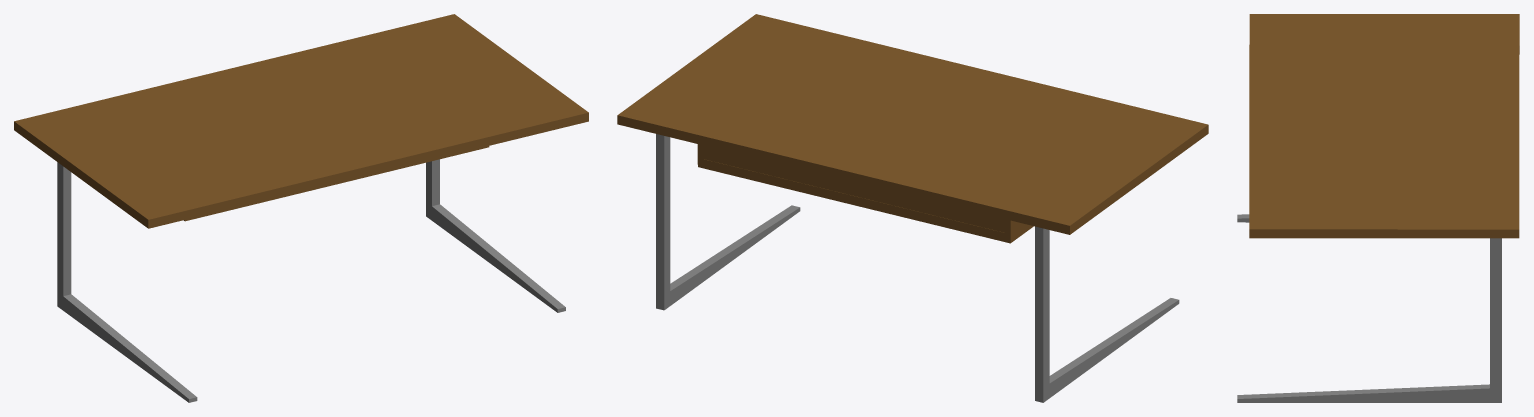
Rendered from desk.glb.
3 renders of one model, left to right at view 1: azimuth 30°, elevation 25°; view 2: azimuth 150°, elevation 25°; view 3: azimuth 270°, elevation 25°, orthographic. The views are drawn at different scales.
Parts seen in each view (by area): view 1: Cube.001; view 2: Cube.001; view 3: Cube.001.
Boxes of the visible parts, x1,y1,x2,y2 form: Cube.001: [14, 14, 588, 402]; Cube.001: [617, 14, 1208, 402]; Cube.001: [1237, 14, 1519, 402].
Size of the model in its own units: 2.48 by 1.01 by 1.37.
